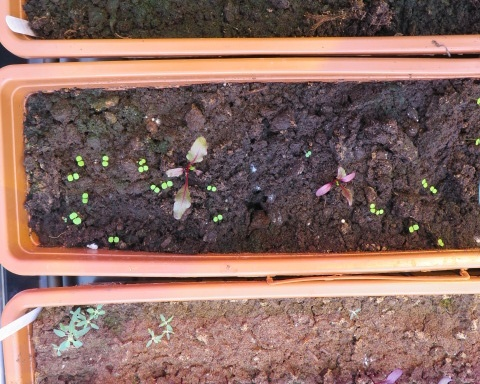crop: (165, 134, 208, 219), (312, 165, 357, 208)
weed: (52, 326, 84, 349), (146, 328, 161, 349), (88, 305, 108, 319), (159, 314, 175, 330), (348, 306, 363, 321), (67, 211, 83, 225), (68, 309, 85, 321), (64, 172, 82, 182), (74, 154, 86, 168), (406, 222, 420, 234), (160, 179, 174, 190), (209, 213, 224, 223), (100, 154, 110, 168), (149, 183, 160, 195), (105, 235, 121, 243), (81, 191, 90, 205), (136, 164, 149, 173), (205, 184, 219, 192), (419, 177, 429, 188), (428, 184, 438, 194), (136, 157, 146, 166), (437, 237, 445, 248), (376, 208, 385, 216), (370, 204, 376, 212)
